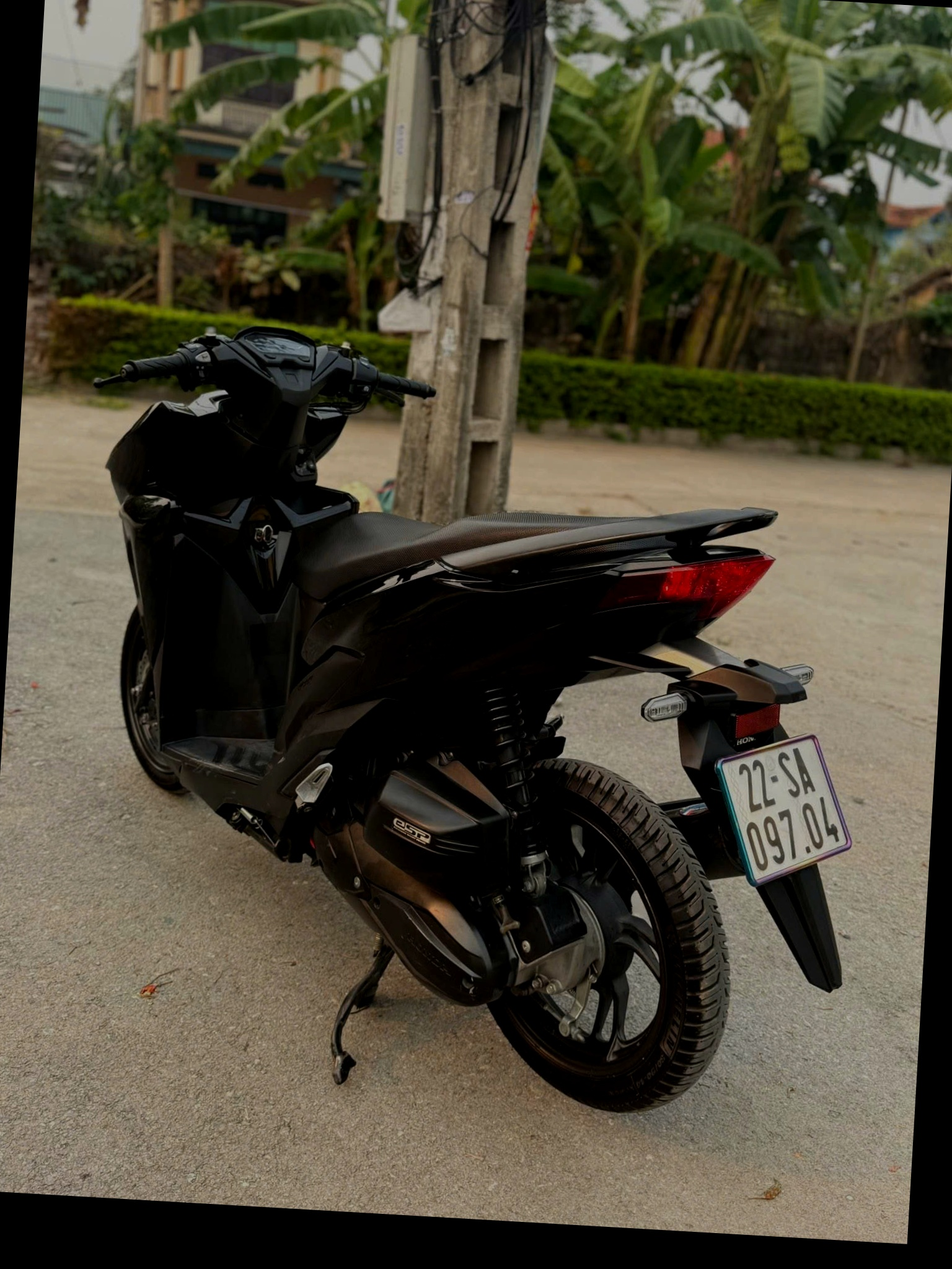Bien-so: (705, 724, 868, 897)
